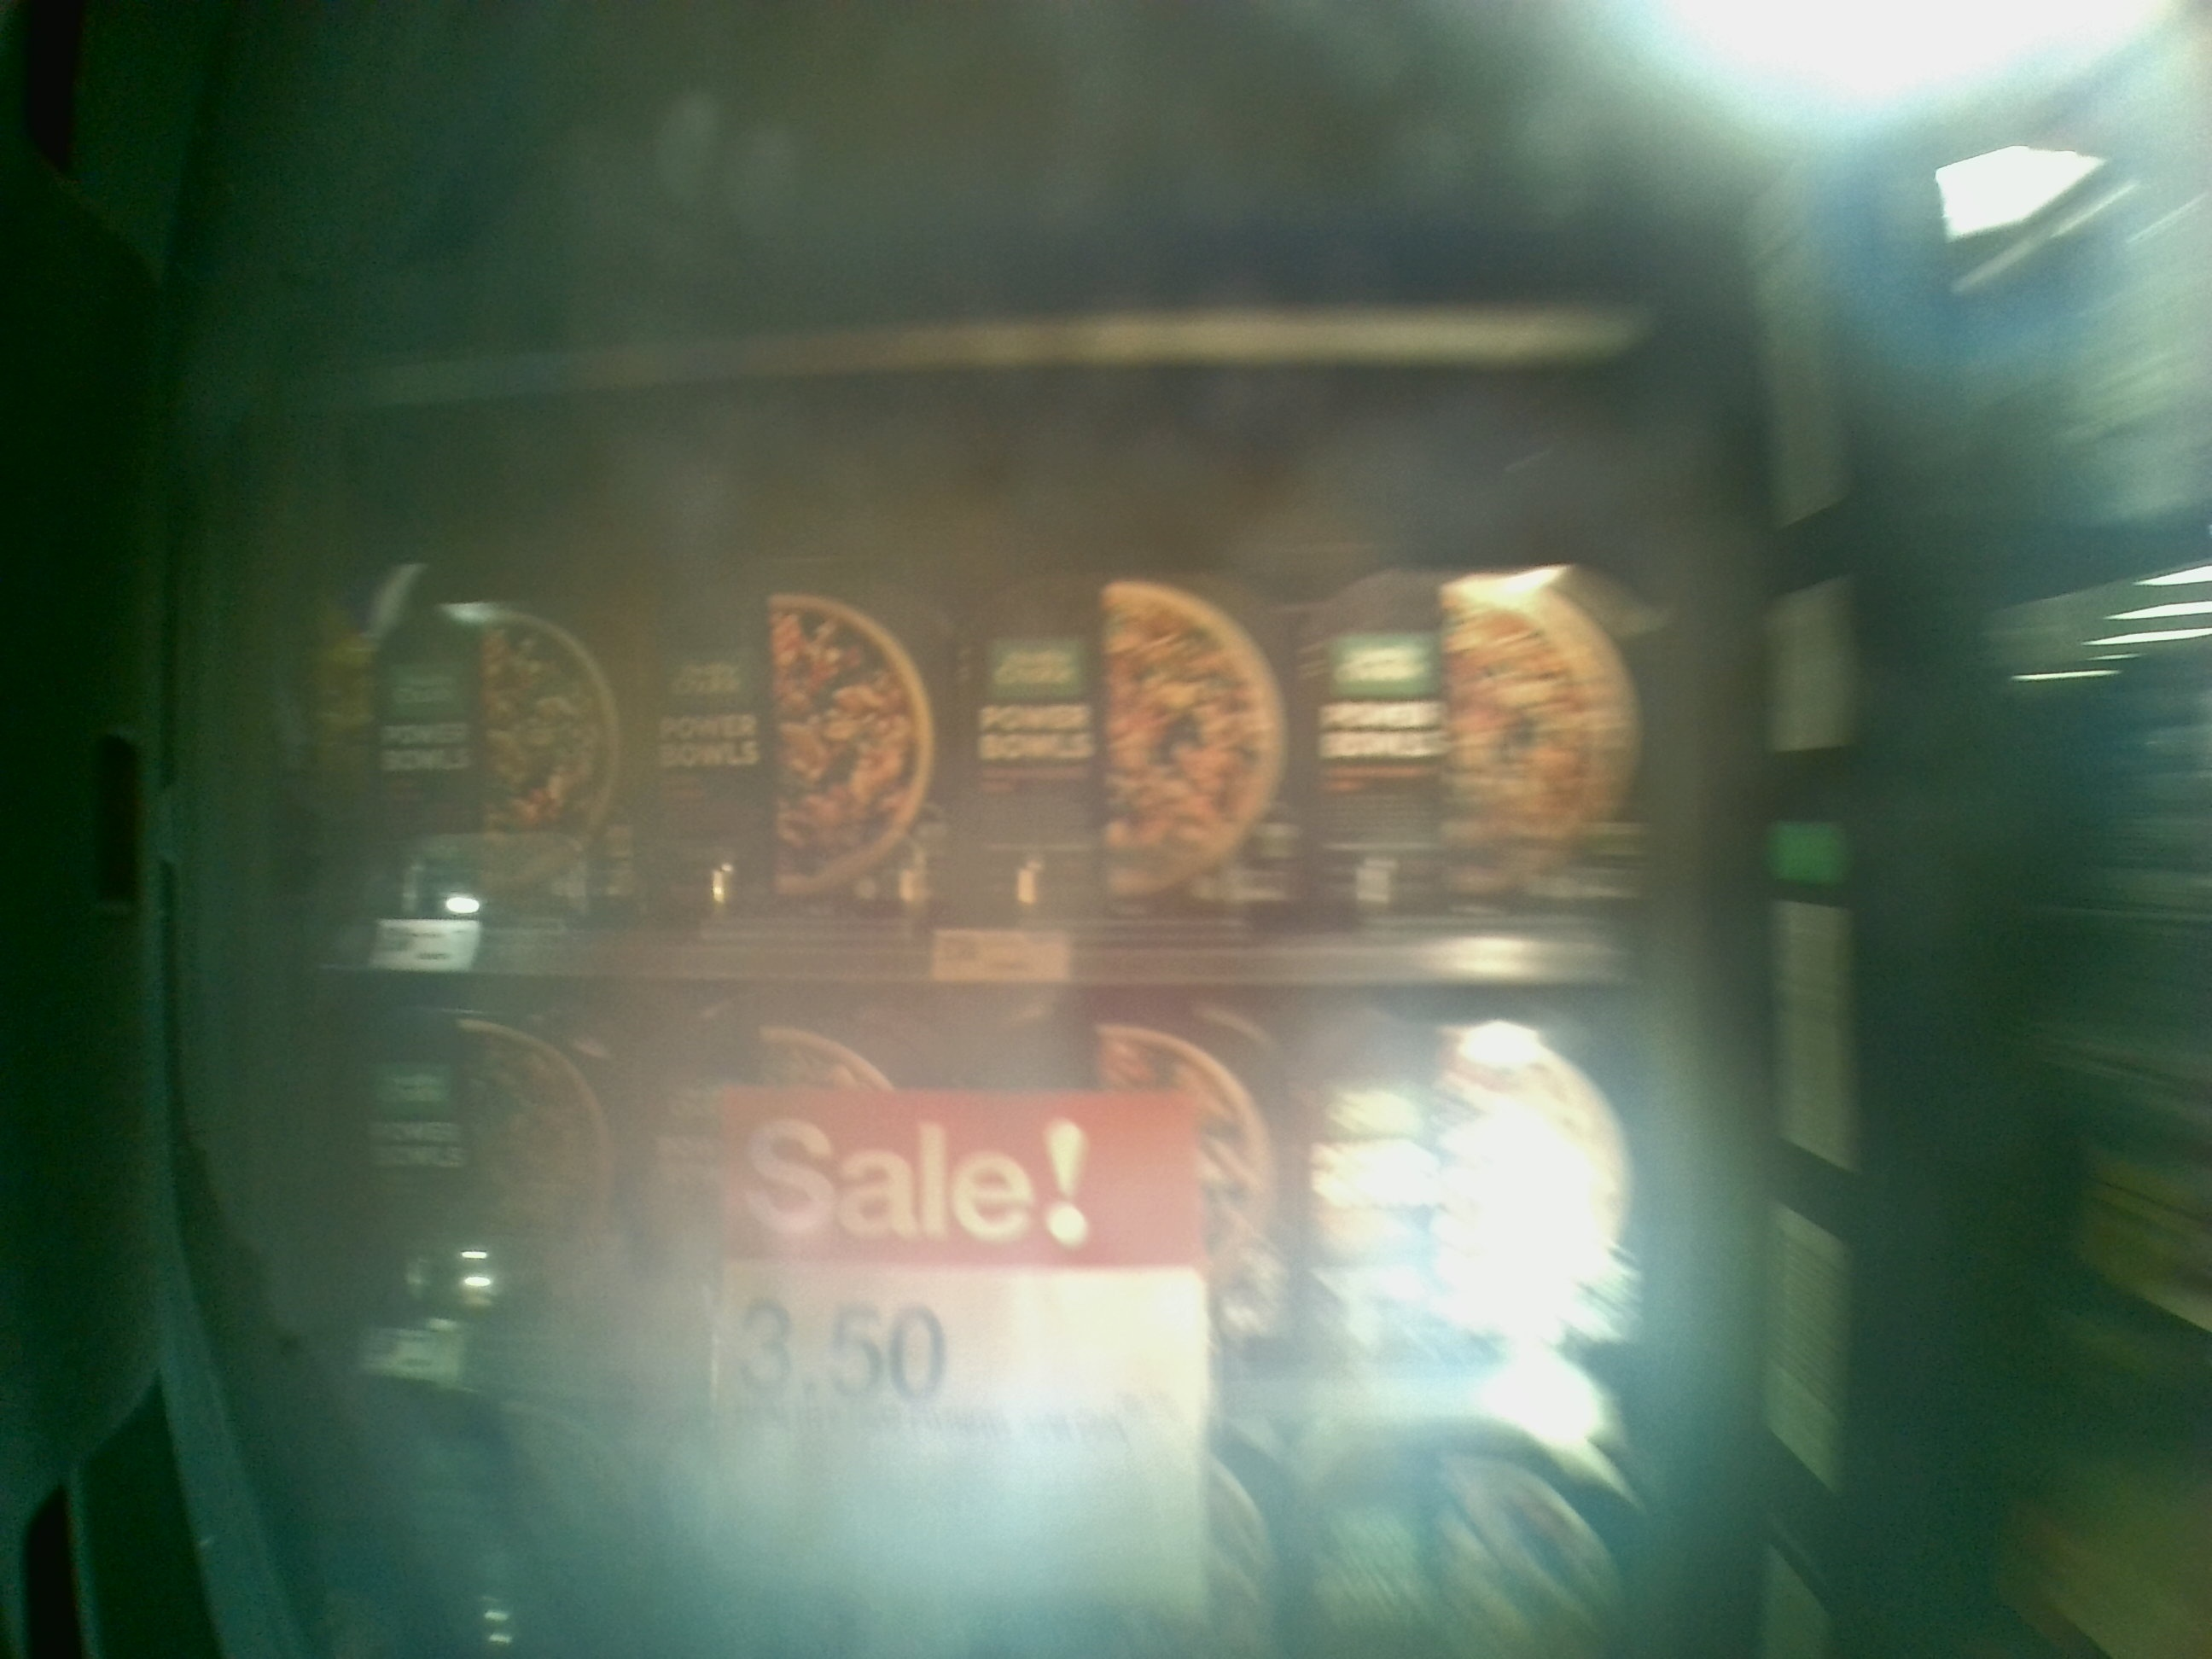shelf: (305, 317, 1674, 985)
